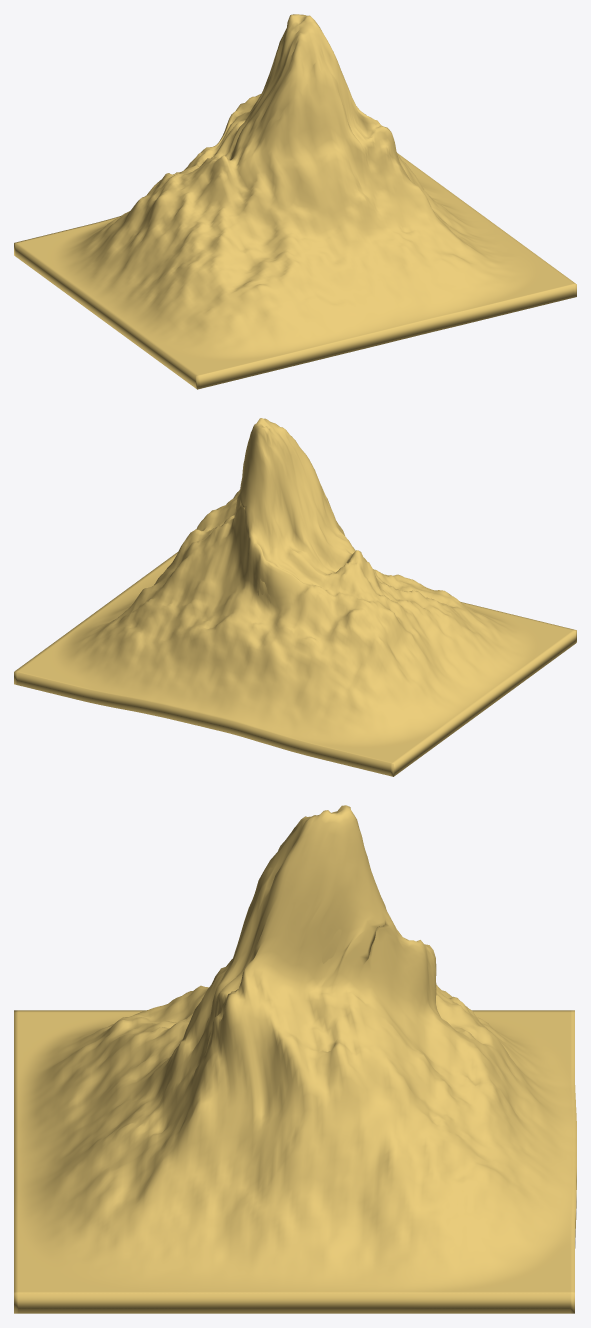
The model's file is mountaindoom.glb.
The picture shows the model from 3 angles, top to bottom: view 1: azimuth 30°, elevation 25°; view 2: azimuth 150°, elevation 25°; view 3: azimuth 270°, elevation 25°; orthographic projection. The views are drawn at different scales.
Visible parts, largest first — view 1: Landscape; view 2: Landscape; view 3: Landscape.
Boxes of the visible parts, <box> form: Landscape: <box>14,14,576,389</box>; Landscape: <box>14,418,576,776</box>; Landscape: <box>14,805,576,1313</box>.
Bounding box in the file's own units: 2.39 × 1.49 × 2.01.
